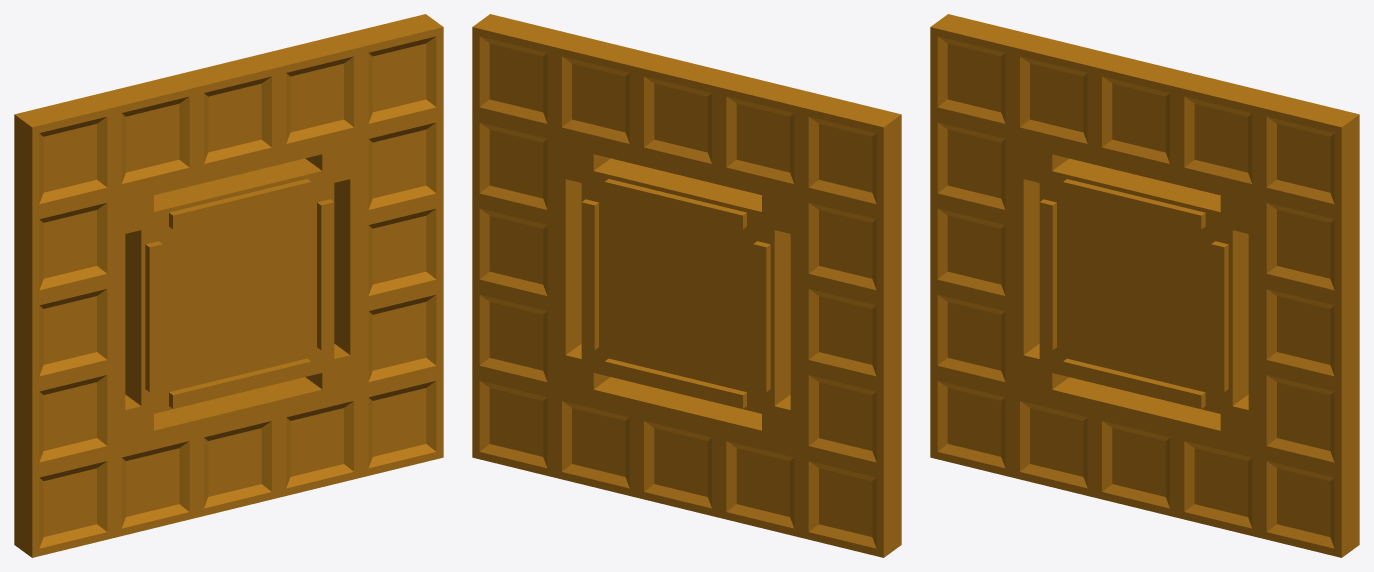
File: stone_wall_4x4.fbx
3 renders of one model, left to right at view 1: azimuth 30°, elevation 25°; view 2: azimuth 150°, elevation 25°; view 3: azimuth 330°, elevation 25°, orthographic.
Parts seen in each view (by area): view 1: stone_wall_4x4; view 2: stone_wall_4x4; view 3: stone_wall_4x4.
Boxes of the visible parts, x1,y1,x2,y2 form: stone_wall_4x4: (14, 14, 443, 557); stone_wall_4x4: (472, 14, 901, 557); stone_wall_4x4: (930, 14, 1359, 557).
Size of the model in its own units: 18.2 by 18.2 by 1.99.
